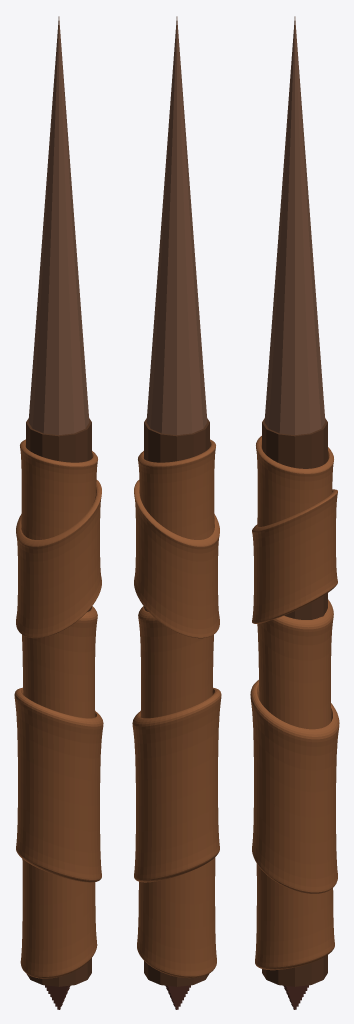
Rendered from Wand 324.glb.
3 views of the same model, side by side, from view 1: azimuth 30°, elevation 25°; view 2: azimuth 150°, elevation 25°; view 3: azimuth 330°, elevation 25° (orthographic).
Visible parts, largest first — view 1: GeneratedWand; view 2: GeneratedWand; view 3: GeneratedWand.
Part boxes in pixels (bbox=[...]): GeneratedWand: bbox=[14, 16, 103, 1009]; GeneratedWand: bbox=[132, 16, 221, 1009]; GeneratedWand: bbox=[250, 16, 339, 1009].
Size of the model in its own units: 0.0408 by 0.5032 by 0.0408.
